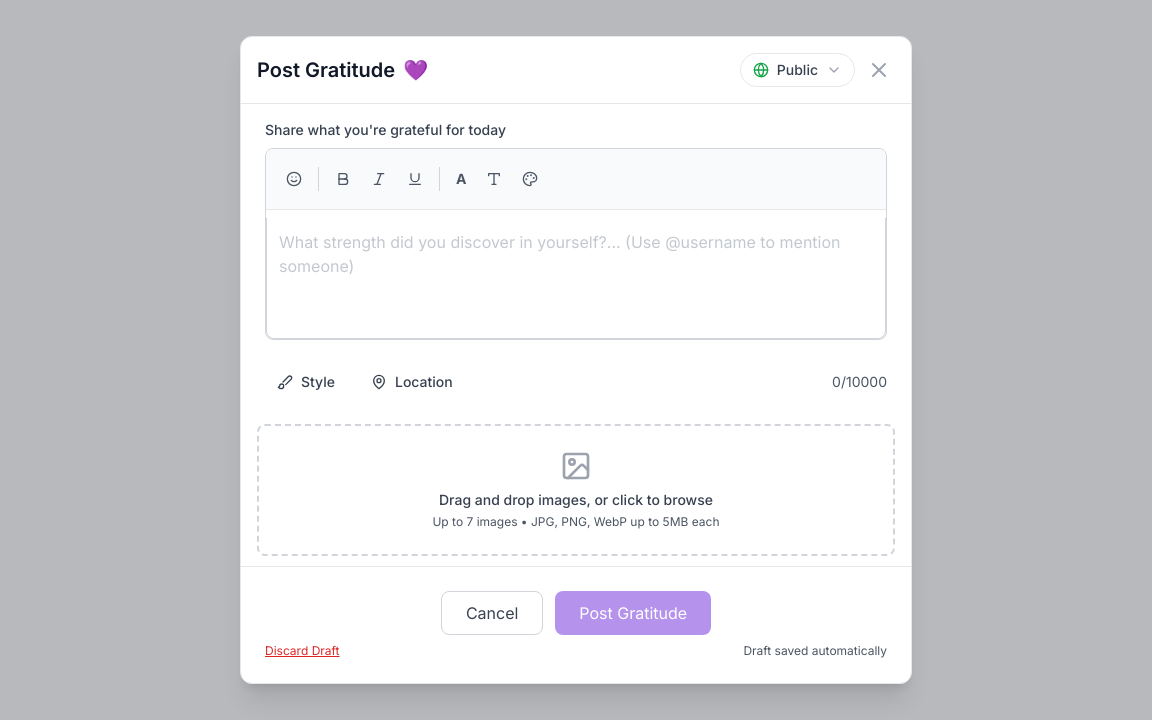
Test: CreatePostModal - LocationModal Integration › has proper data attributes for modal detection
# Open the location modal
Click the button "Location" at (412, 382), box [359, 364, 465, 400]
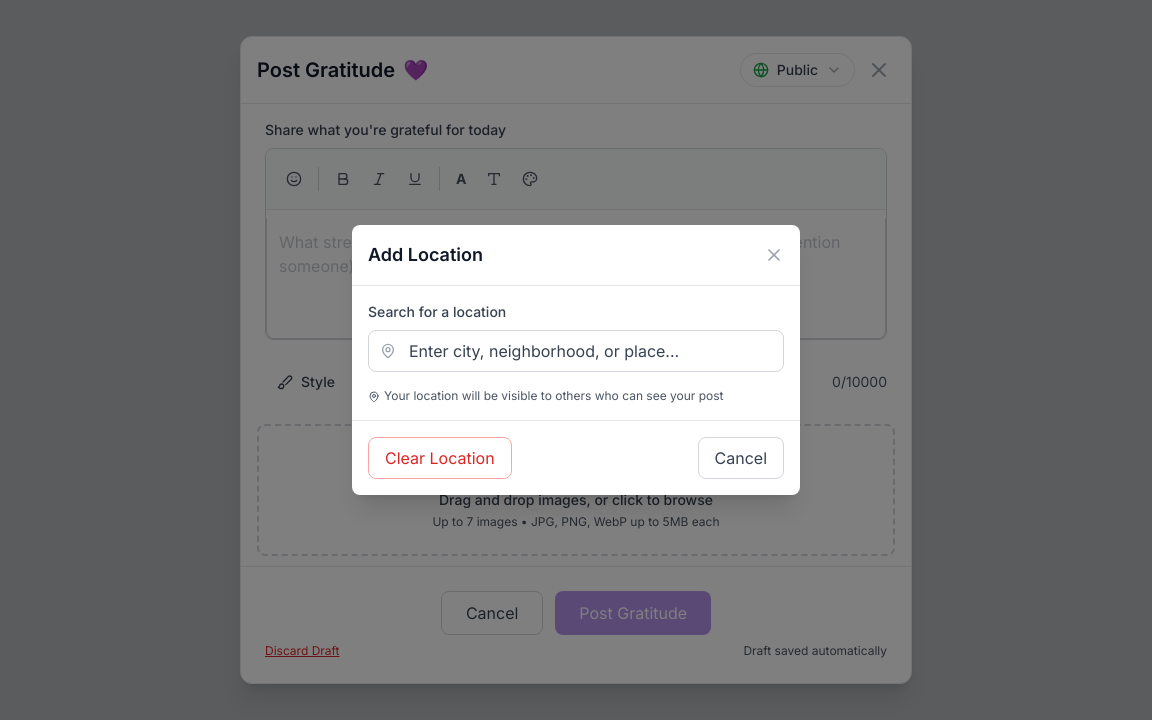
Expected: the element that starts with "Add Location" is shown
